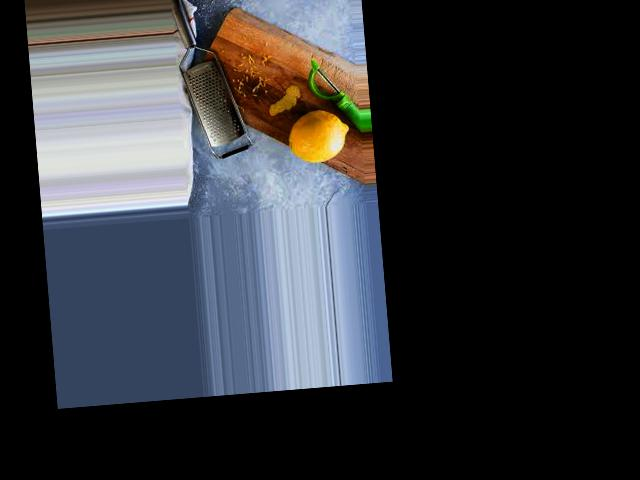lemon: (276, 98, 355, 171)
